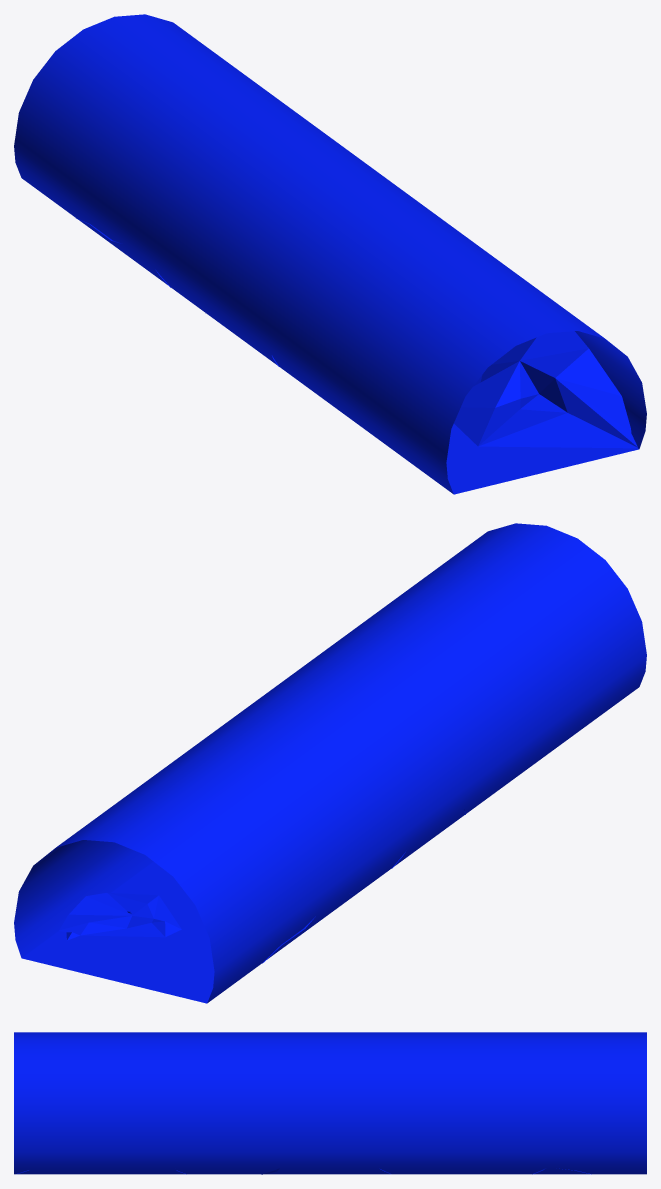
Rendered from ElevationChange_Collider.DAE.
3 renders of one model, top to bottom at view 1: azimuth 30°, elevation 25°; view 2: azimuth 150°, elevation 25°; view 3: azimuth 270°, elevation 25°, orthographic. The views are drawn at different scales.
Parts seen in each view (by area): view 1: Straight_Collider; view 2: Straight_Collider; view 3: Straight_Collider.
Part boxes in pixels (x1,y1,x2,y2): Straight_Collider: (14,14,646,494); Straight_Collider: (14,523,646,1003); Straight_Collider: (14,1032,646,1174).
Bounding box in the file's own units: 536 × 2000 × 355.
